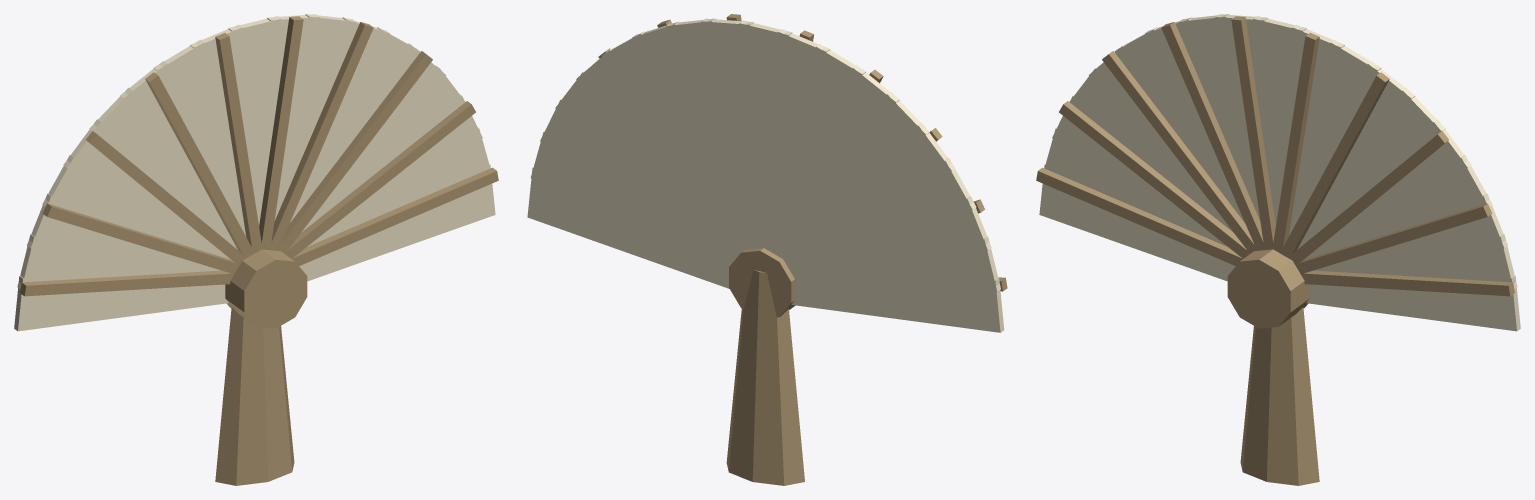
File: quat.glb
The picture shows the model from 3 angles, left to right: view 1: azimuth 30°, elevation 25°; view 2: azimuth 150°, elevation 25°; view 3: azimuth 330°, elevation 25°; orthographic projection.
Parts seen in each view (by area): view 1: fan_handle, fan_slat_0, fan_slat_18, fan_slat_6, fan_slat_7, fan_slat_2, fan_slat_1, fan_slat_3, fan_slat_12, fan_slat_14, fan_rivet, fan_slat_5 (+19 smaller); view 2: fan_handle, fan_slat_18, fan_slat_2, fan_slat_11, fan_slat_9, fan_slat_4, fan_slat_16, fan_slat_6, fan_slat_0, fan_slat_1, fan_slat_12, fan_slat_13 (+9 smaller); view 3: fan_handle, fan_slat_15, fan_slat_0, fan_slat_18, fan_slat_11, fan_slat_13, fan_slat_7, fan_slat_16, fan_slat_2, fan_rivet, fan_slat_1, fan_slat_9 (+19 smaller).
Part boxes in pixels (box(x1,y1,x2,y2)): fan_handle: box(215, 307, 294, 485); fan_slat_0: box(14, 258, 228, 331); fan_slat_18: box(299, 164, 495, 281); fan_slat_6: box(120, 61, 241, 226); fan_slat_7: box(153, 39, 255, 237); fan_slat_2: box(27, 193, 237, 286); fan_slat_1: box(17, 234, 235, 298); fan_slat_3: box(42, 155, 231, 289); fan_slat_12: box(276, 17, 389, 222); fan_slat_14: box(301, 43, 446, 246); fan_rivet: box(225, 249, 307, 328); fan_slat_5: box(89, 87, 229, 270); fan_handle: box(726, 269, 804, 485); fan_slat_18: box(527, 167, 743, 288); fan_slat_2: box(788, 196, 991, 296); fan_slat_11: box(665, 18, 773, 249); fan_slat_9: box(739, 20, 792, 267); fan_slat_4: box(788, 123, 955, 279); fan_slat_16: box(540, 98, 768, 254); fan_slat_6: box(771, 65, 899, 255); fan_slat_0: box(791, 266, 1004, 332); fan_slat_1: box(795, 236, 1000, 300); fan_slat_12: box(632, 21, 735, 224); fan_slat_13: box(602, 31, 731, 262); fan_handle: box(1240, 307, 1319, 485); fan_slat_15: box(1310, 155, 1492, 288); fan_slat_0: box(1039, 164, 1235, 281); fan_slat_18: box(1306, 266, 1520, 331); fan_slat_11: box(1278, 39, 1381, 259); fan_slat_13: box(1312, 87, 1445, 270); fan_slat_7: box(1179, 14, 1290, 236); fan_slat_16: box(1309, 193, 1507, 294); fan_slat_2: box(1052, 94, 1243, 268); fan_rivet: box(1227, 249, 1309, 328); fan_slat_1: box(1045, 127, 1233, 265); fan_slat_9: box(1253, 16, 1306, 214).
Bounding box in the file's own units: 0.7239 × 0.6513 × 0.09.
